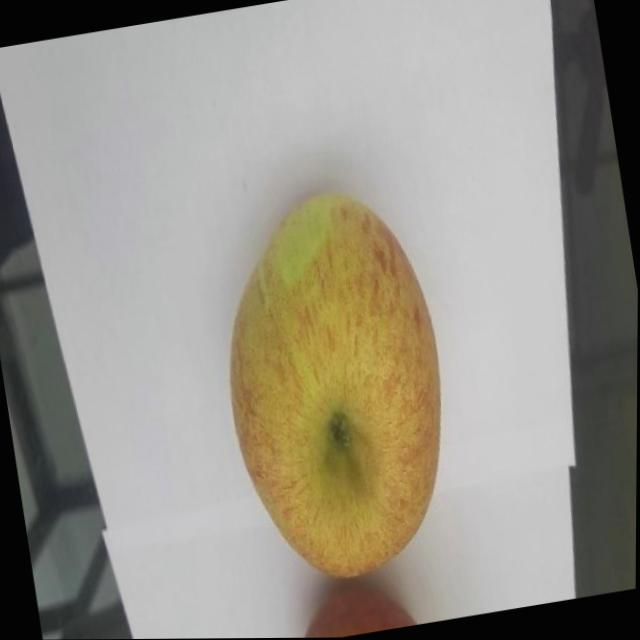Apple: (201, 173, 468, 590), (292, 571, 426, 638)
